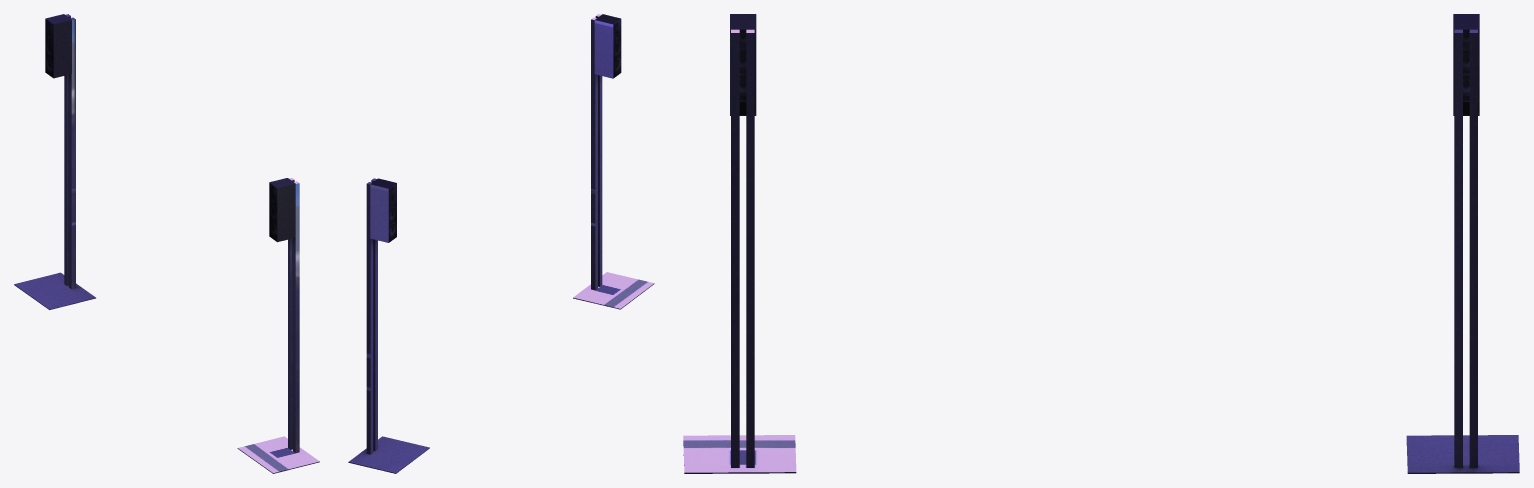
The model's file is ey_verse_speakers_1.glb.
3 renders of one model, left to right at view 1: azimuth 30°, elevation 25°; view 2: azimuth 150°, elevation 25°; view 3: azimuth 270°, elevation 25°, orthographic. The views are drawn at different scales.
Visible parts, largest first — view 1: ey_verse_speakers_1; view 2: ey_verse_speakers_1; view 3: ey_verse_speakers_1.
Part boxes in pixels (box(x1,y1,x2,y2)): ey_verse_speakers_1: box(14, 14, 319, 473); ey_verse_speakers_1: box(348, 14, 654, 473); ey_verse_speakers_1: box(683, 14, 1519, 473).
Size of the model in its own units: 0.3723 by 2.01 by 3.48.
1 material, 1 textured.
